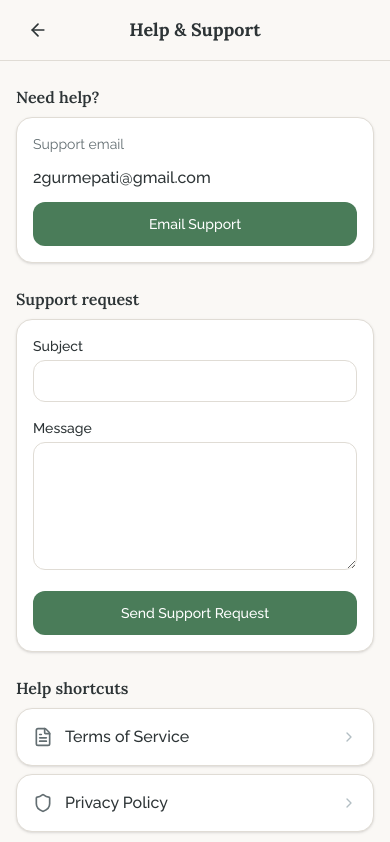
Scenario: SupportPage › requires subject and message before launching a support draft
Click the button "Send Support Request" at [195, 613], box left=33, top=591, right=357, bottom=635
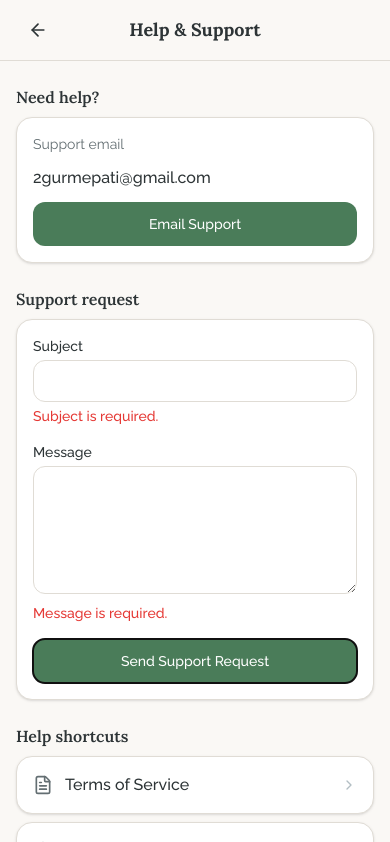
Check: the text "Subject is required." is shown, box left=33, top=408, right=158, bottom=424
Check: the text "Message is required." is shown, box left=33, top=605, right=167, bottom=621
